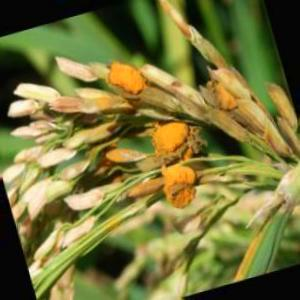Leaf_Scald: (154, 120, 202, 206), (110, 56, 144, 102), (214, 73, 245, 118), (107, 146, 149, 169)
